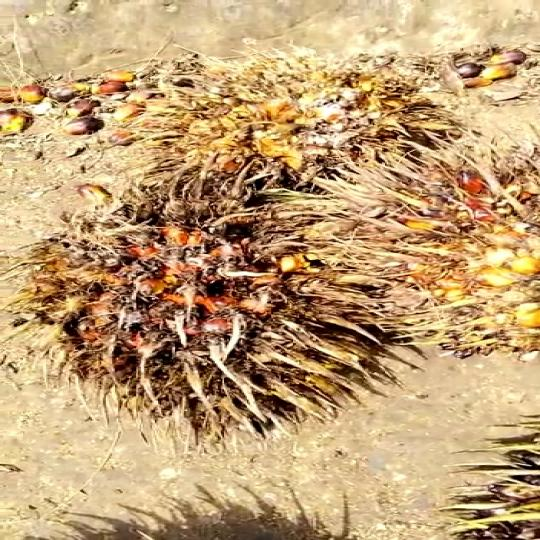terlalu masak: (0, 215, 374, 423), (110, 64, 457, 207)
